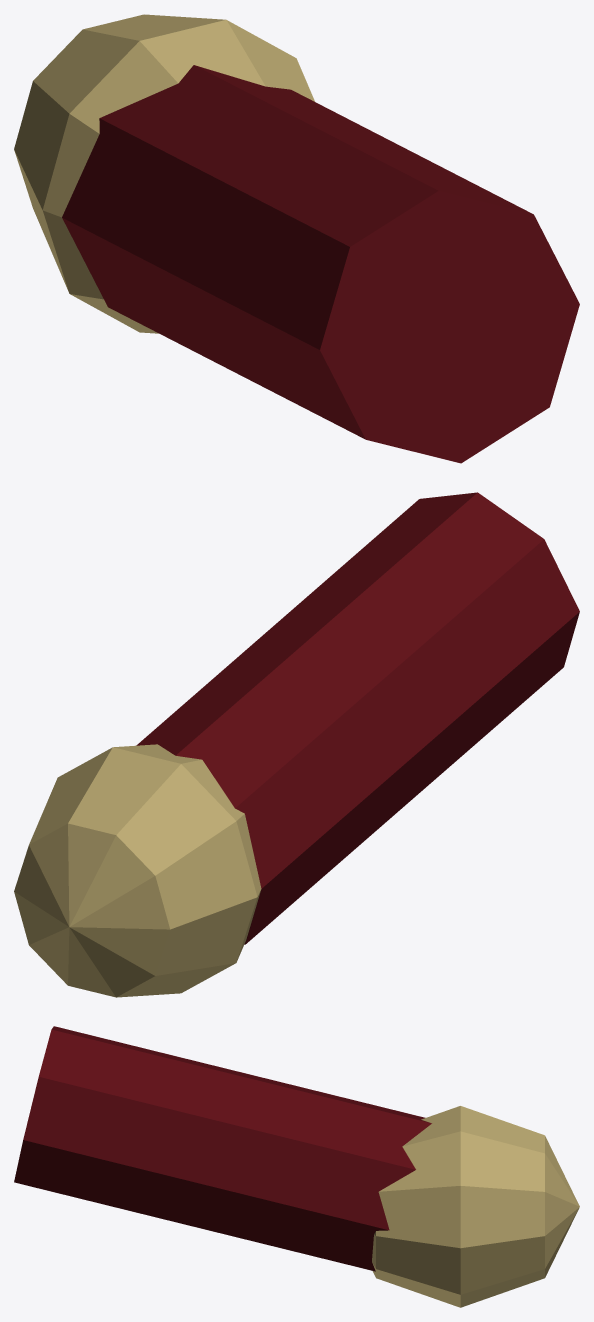
File: Resident2RightArm.obj
3 views of the same model, one above another, from view 1: azimuth 30°, elevation 25°; view 2: azimuth 150°, elevation 25°; view 3: azimuth 270°, elevation 25° (orthographic). The views are drawn at different scales.
Visible parts, largest first — view 1: Resident2RightArm; view 2: Resident2RightArm; view 3: Resident2RightArm.
Boxes of the visible parts, x1,y1,x2,y2 form: Resident2RightArm: (14, 14, 579, 463); Resident2RightArm: (14, 492, 579, 997); Resident2RightArm: (14, 1026, 579, 1307).
Size of the model in its own units: 28.42 by 31.2 by 66.34.
